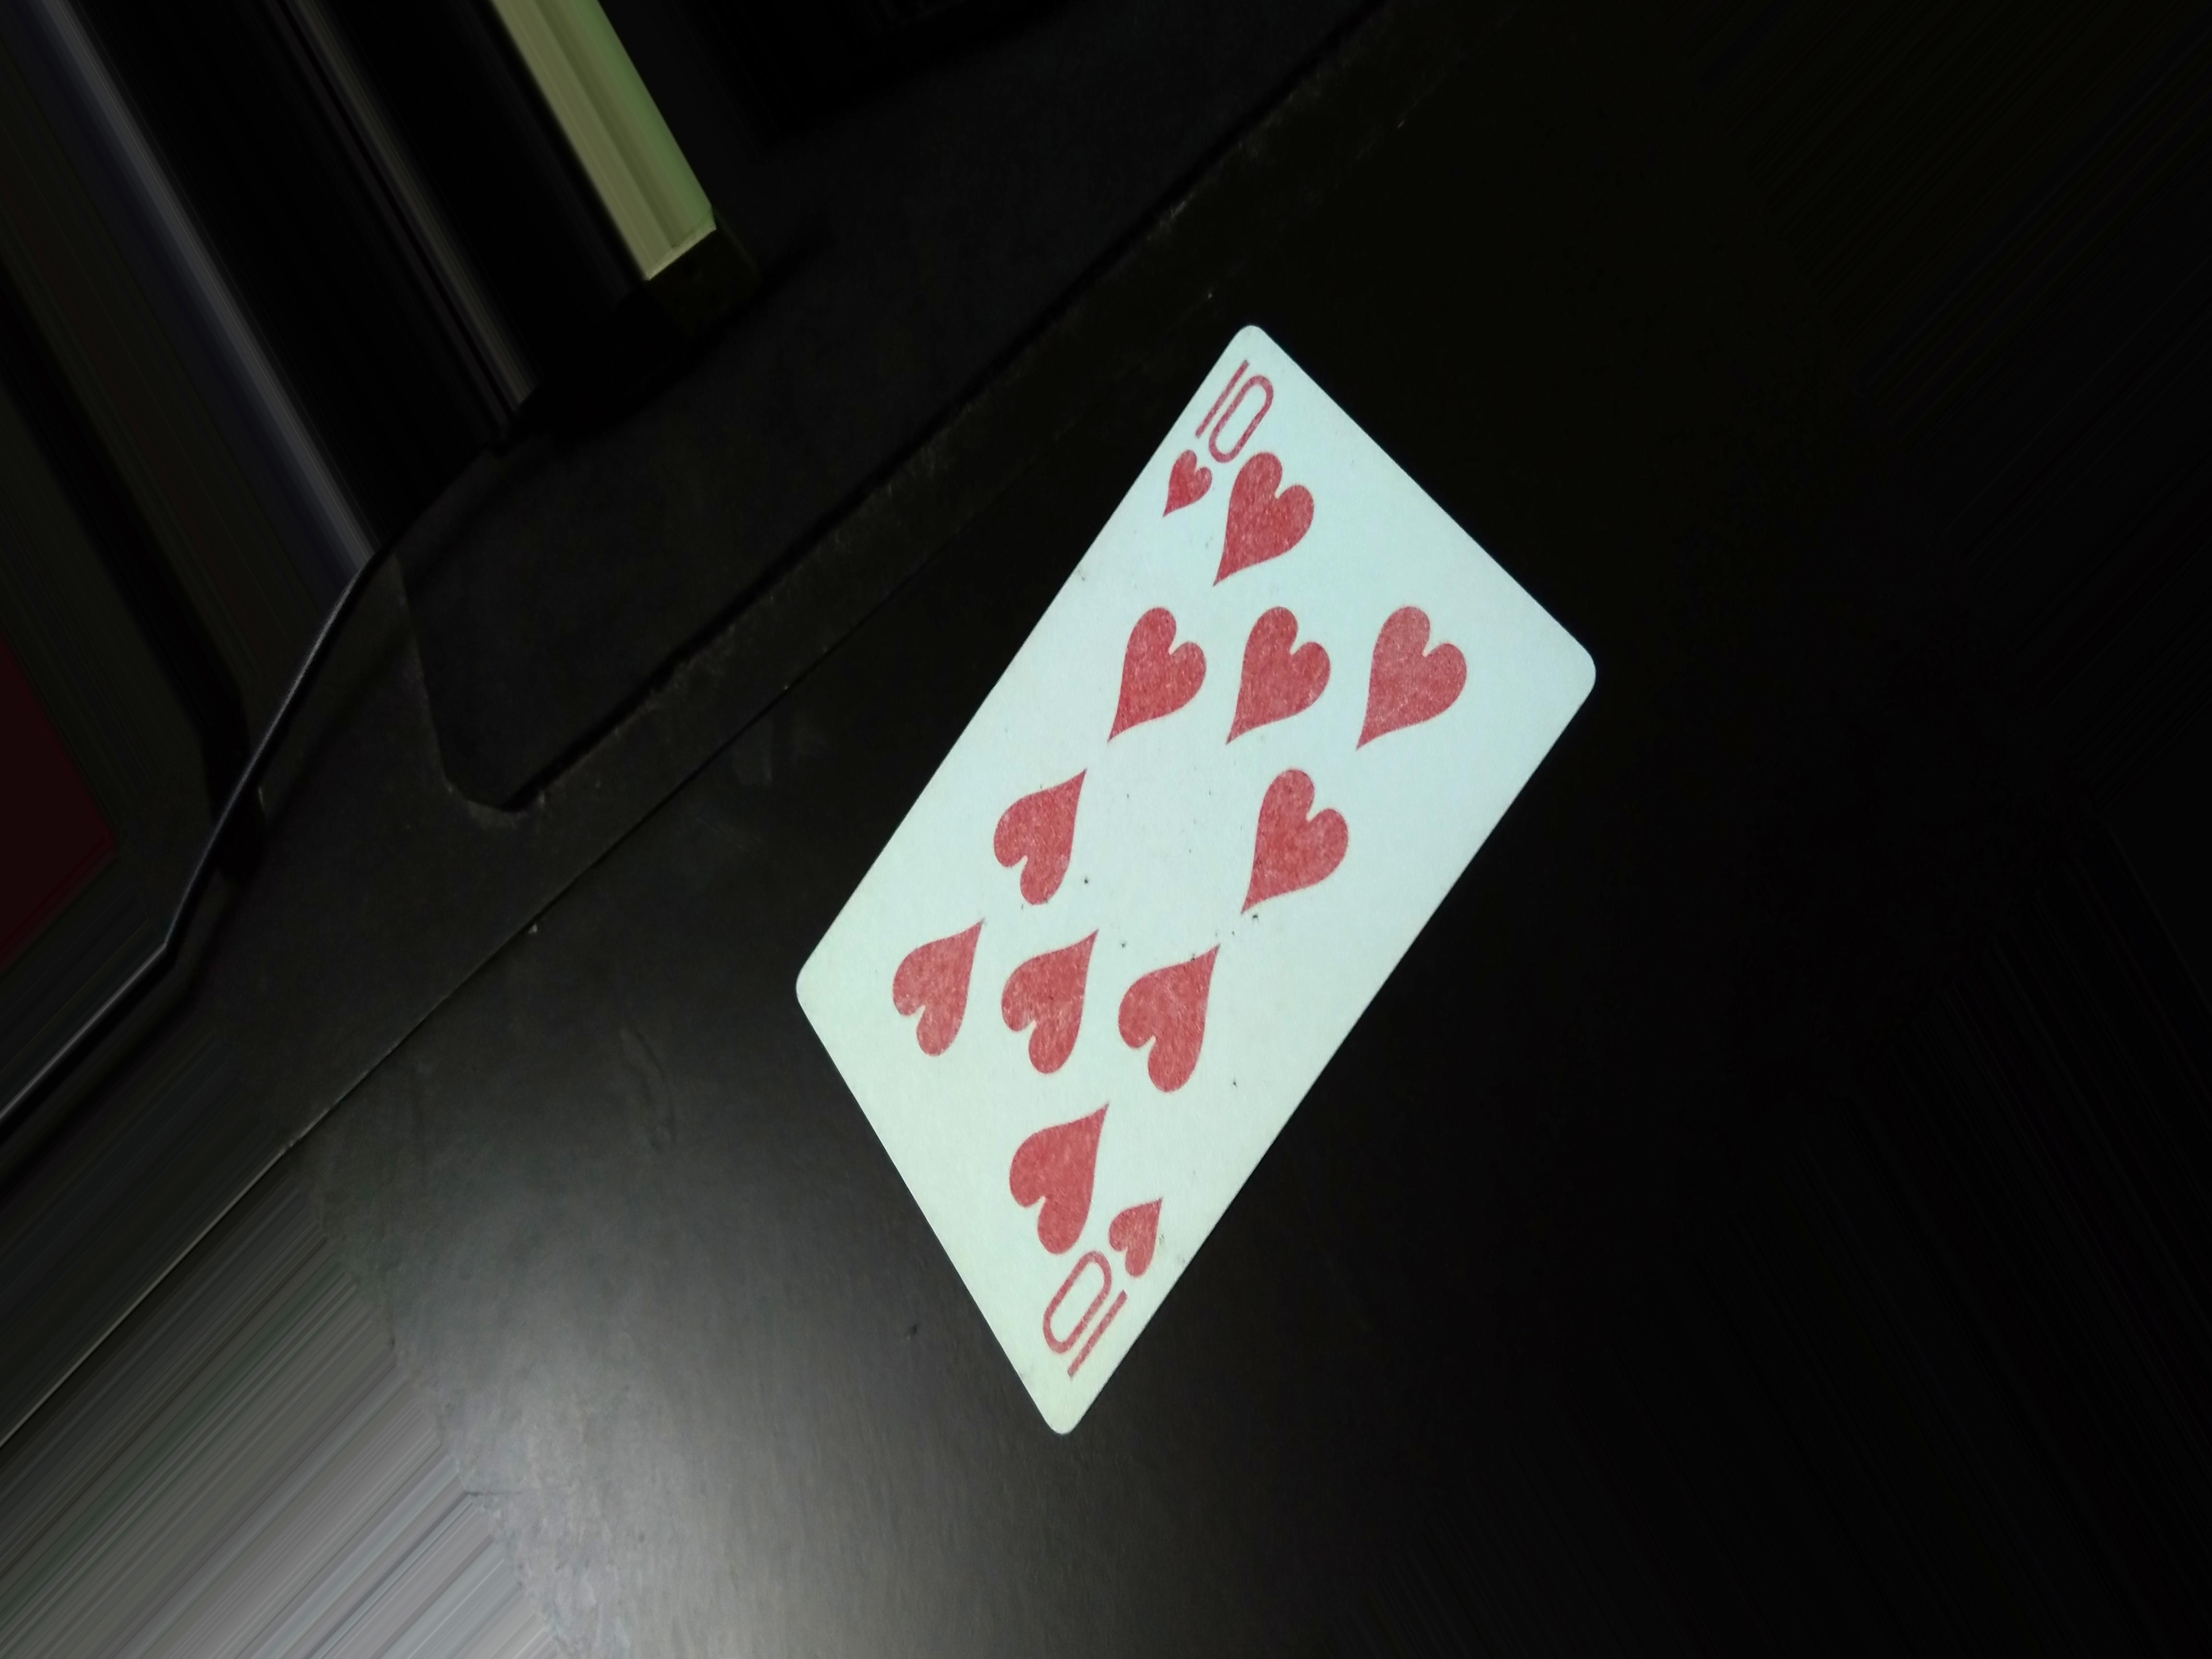10H: (1151, 357, 1280, 518)
